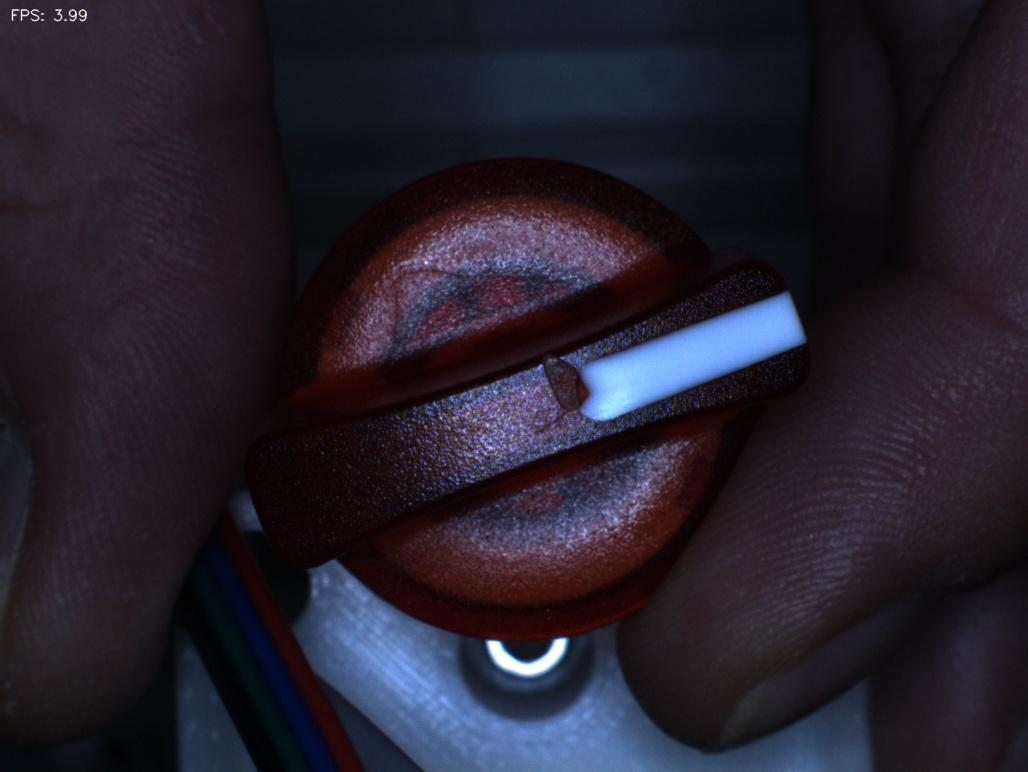Choc: (520, 334, 609, 429)
